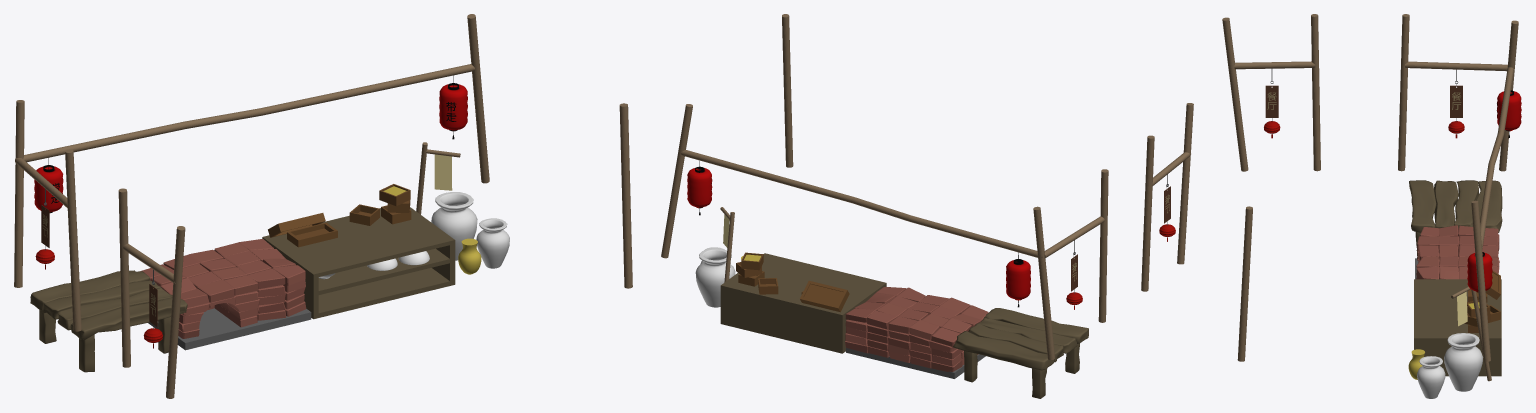
Rendered from ModeloV1Emplatado.fbx.
3 views of the same model, side by side, from view 1: azimuth 30°, elevation 25°; view 2: azimuth 150°, elevation 25°; view 3: azimuth 270°, elevation 25° (orthographic). The views are drawn at different scales.
Parts seen in each view (by area): view 1: Soportes, Cube, PISO, Mesa, Cube.003, Cube.001, Cube.004, Cube.002, Cylinder.001, Cube.007, Cube.005, MijoLlenoVasija (+2 smaller); view 2: Soportes, PISO, Cube, Mesa, Cube.003, Cube.001, Cube.006, Cube.002, Cube.007, Cylinder.001; view 3: Soportes, Cube, Mesa, PISO, Cube.001, Cube.003, Cube.002, Cube.004, Cylinder.001, MijoLlenoVasija, Cube.006.
Part boxes in pixels (<box>): Soportes: <box>14,14,632,398</box>; Cube: <box>262,207,455,319</box>; PISO: <box>140,239,311,350</box>; Mesa: <box>30,270,187,372</box>; Cube.003: <box>34,75,467,213</box>; Cube.001: <box>431,192,477,260</box>; Cube.004: <box>476,218,509,268</box>; Cube.002: <box>35,189,162,348</box>; Cylinder.001: <box>416,142,460,214</box>; Cube.007: <box>349,204,411,225</box>; Cube.005: <box>287,222,337,247</box>; MijoLlenoVasija: <box>458,238,481,274</box>; Soportes: <box>661,14,1193,360</box>; PISO: <box>845,287,988,378</box>; Cube: <box>720,253,886,353</box>; Mesa: <box>953,308,1088,398</box>; Cube.003: <box>687,161,1030,307</box>; Cube.001: <box>695,248,735,307</box>; Cube.006: <box>800,280,849,312</box>; Cube.002: <box>1066,174,1175,309</box>; Cube.007: <box>738,271,778,294</box>; Cylinder.001: <box>720,207,734,282</box>; Soportes: <box>1222,14,1518,361</box>; Cube: <box>1414,279,1501,376</box>; Mesa: <box>1409,180,1502,255</box>; PISO: <box>1415,225,1499,279</box>; Cube.001: <box>1444,333,1483,391</box>; Cube.003: <box>1467,90,1521,292</box>; Cube.002: <box>1264,69,1464,138</box>; Cube.004: <box>1417,356,1445,398</box>; Cylinder.001: <box>1451,286,1491,381</box>; MijoLlenoVasija: <box>1408,349,1424,379</box>; Cube.006: <box>1485,271,1500,299</box>.
Bounding box in the file's own units: 7.89 × 3.77 × 5.08.
